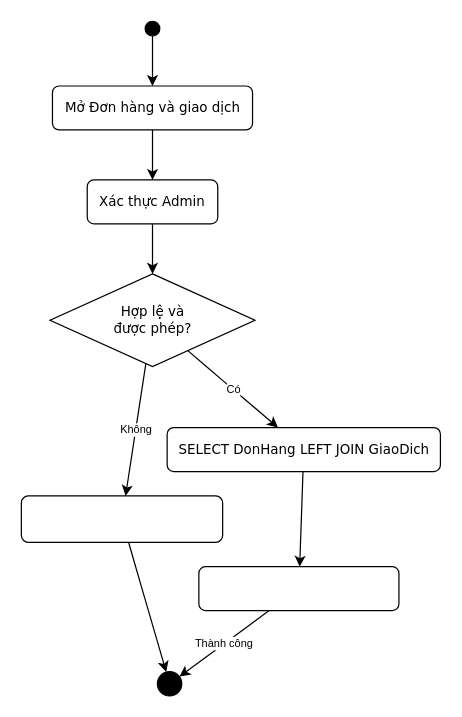
Image size: 462x717. Some labels were removed from this diagram. The centre of each missing label's shape, as x and y in pixels:
"Hiển thị 500 đơn gần nhất" belongs at (298,588).
"Thông báo lỗi Không báo lưu thành công" belongs at (121,518).
